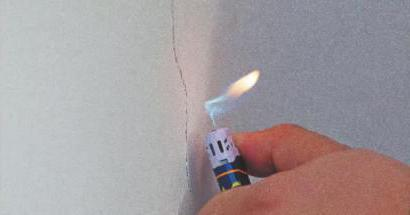fire: (195, 66, 263, 133)
